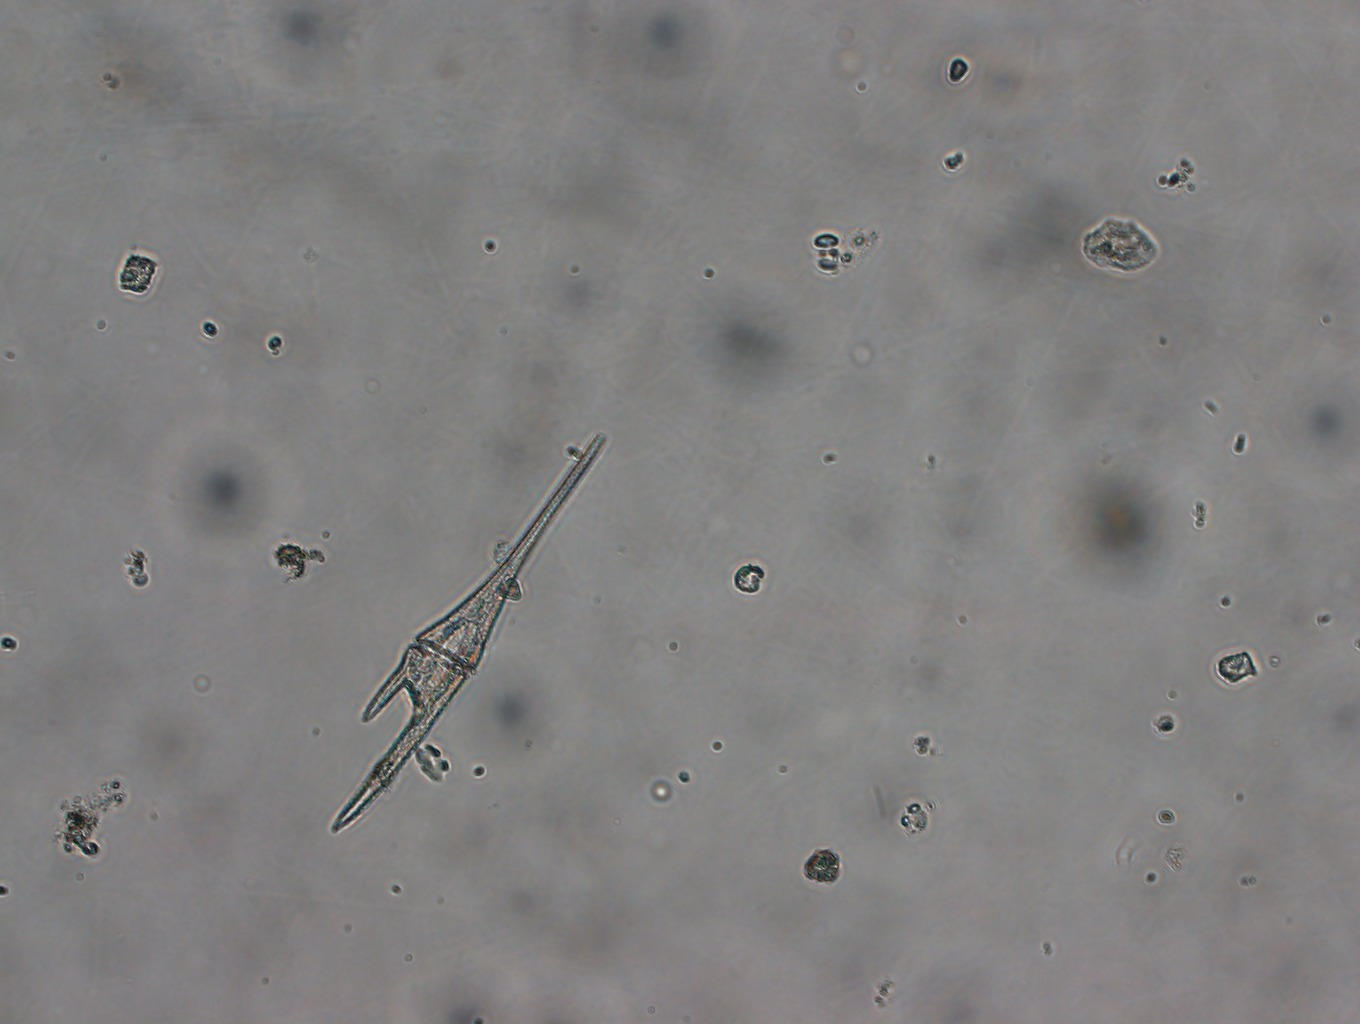ceratium furca: (333, 429, 609, 842)
